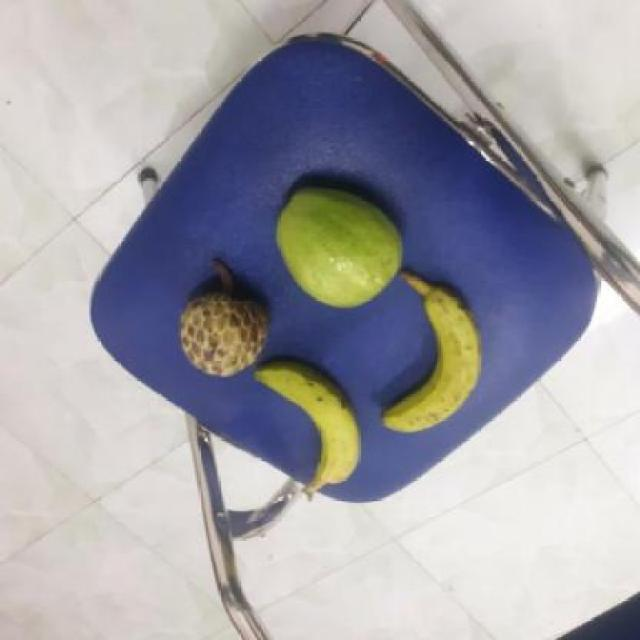banana: (378, 282, 490, 433), (257, 363, 368, 491)
guava: (275, 184, 409, 307)
sugar apple: (178, 266, 274, 377)
